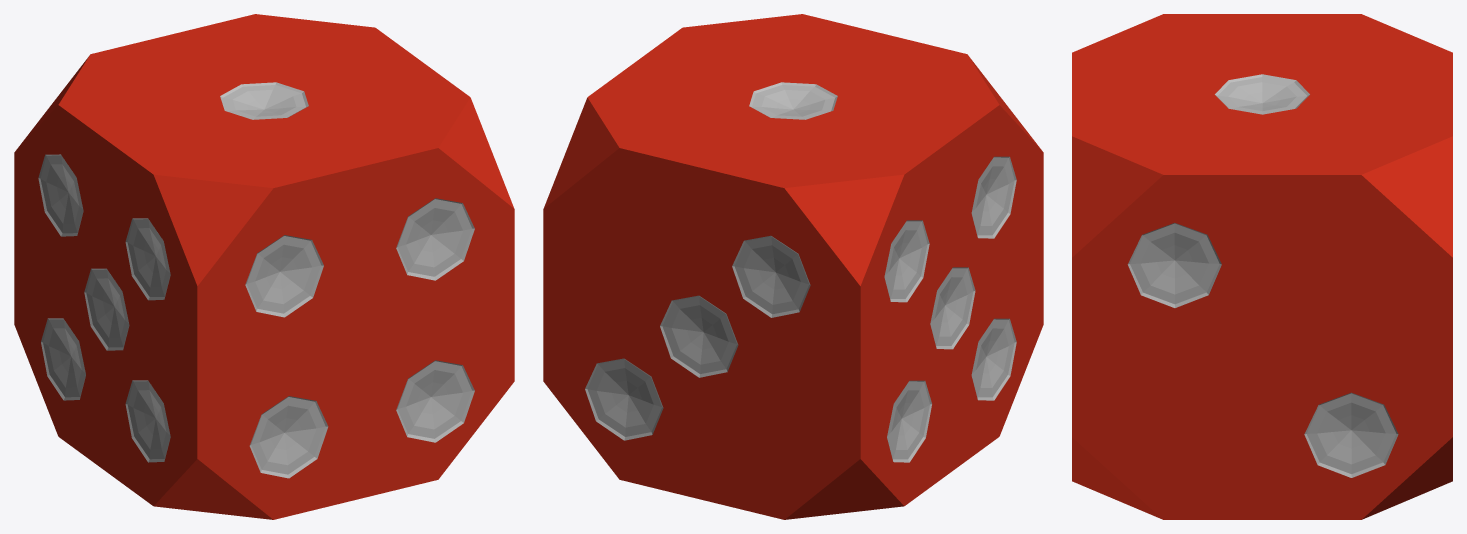
The model's file is dice.fbx.
3 views of the same model, side by side, from view 1: azimuth 30°, elevation 25°; view 2: azimuth 150°, elevation 25°; view 3: azimuth 270°, elevation 25° (orthographic). The views are drawn at different scales.
Parts seen in each view (by area): view 1: Cube; view 2: Cube; view 3: Cube.
Boxes of the visible parts, x1,y1,x2,y2 form: Cube: (14, 14, 514, 519); Cube: (543, 14, 1043, 519); Cube: (1072, 14, 1452, 519).
Bounding box in the file's own units: 0.2184 × 0.2184 × 0.2184.
